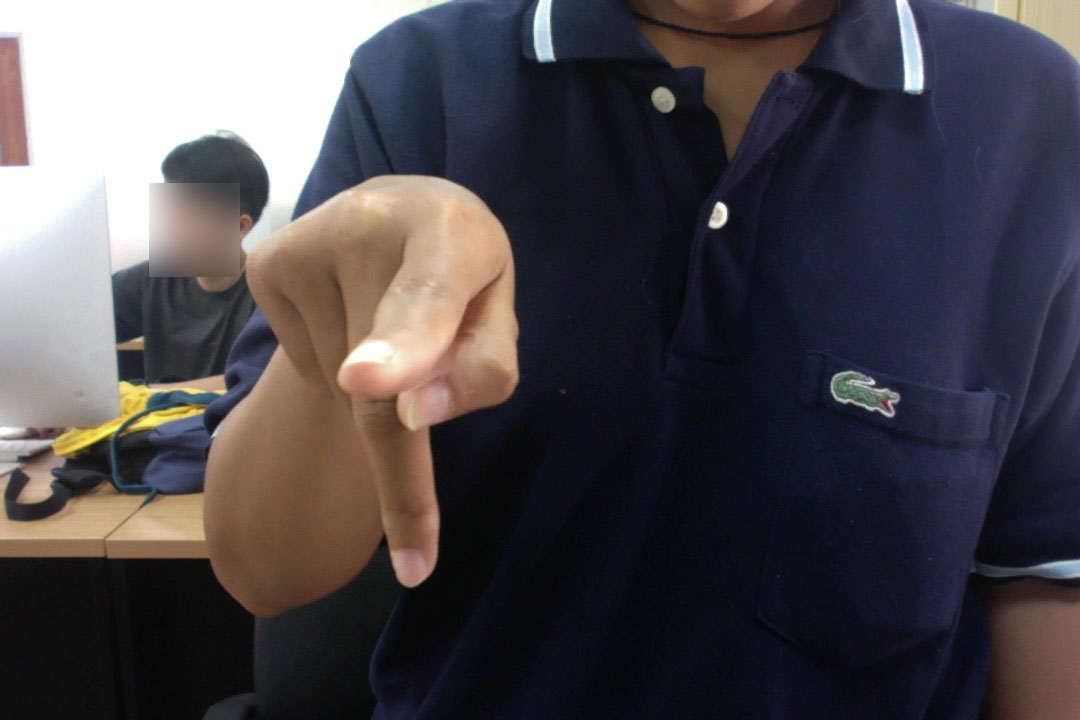por: (245, 173, 528, 594)
